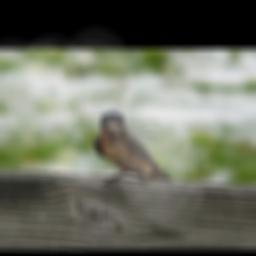Swallow: (93, 112, 174, 191)
